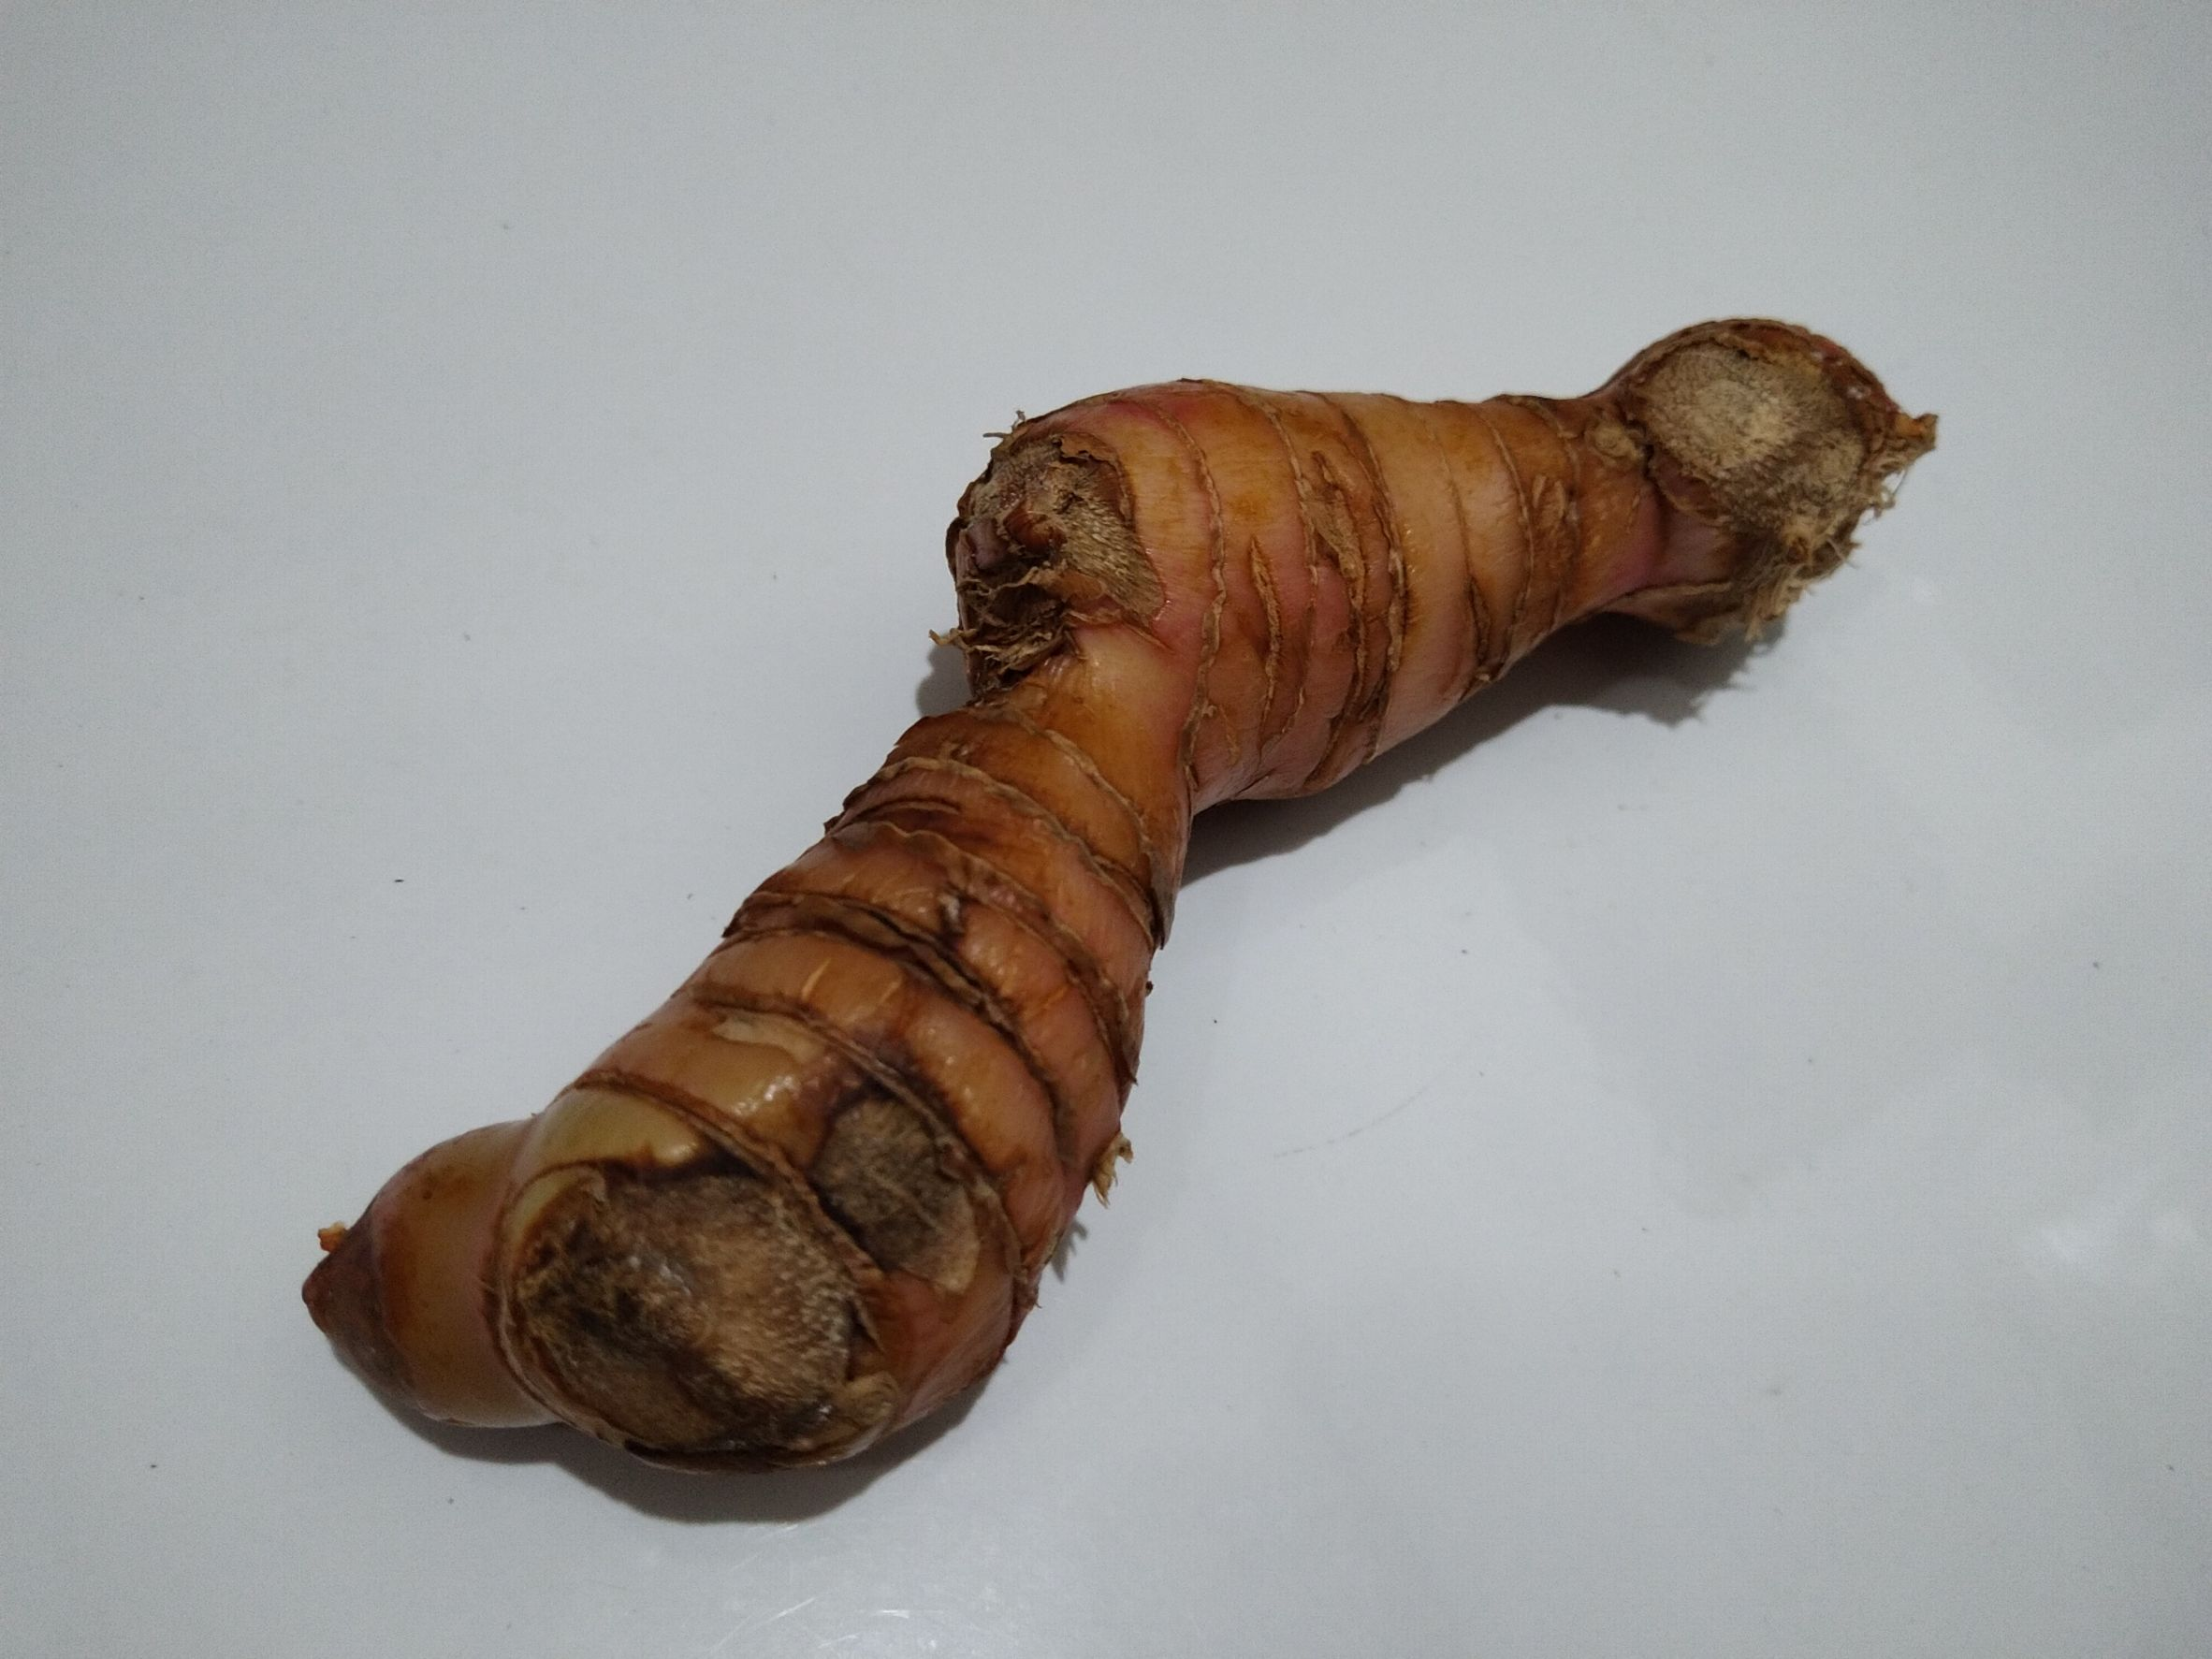Lengkuas: (291, 310, 1926, 1502)
